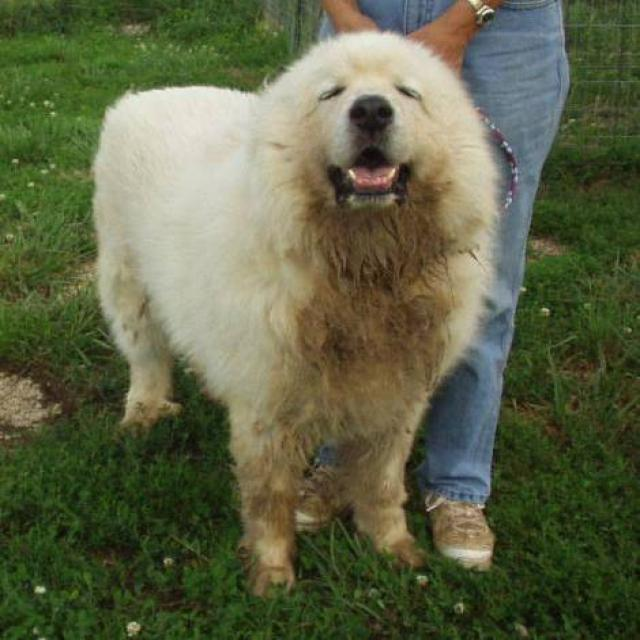dog: (88, 28, 510, 599)
